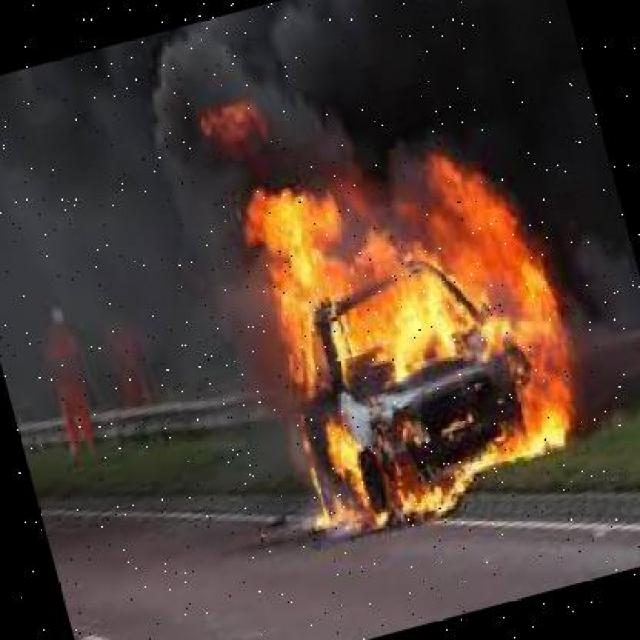fire: (230, 119, 598, 546)
